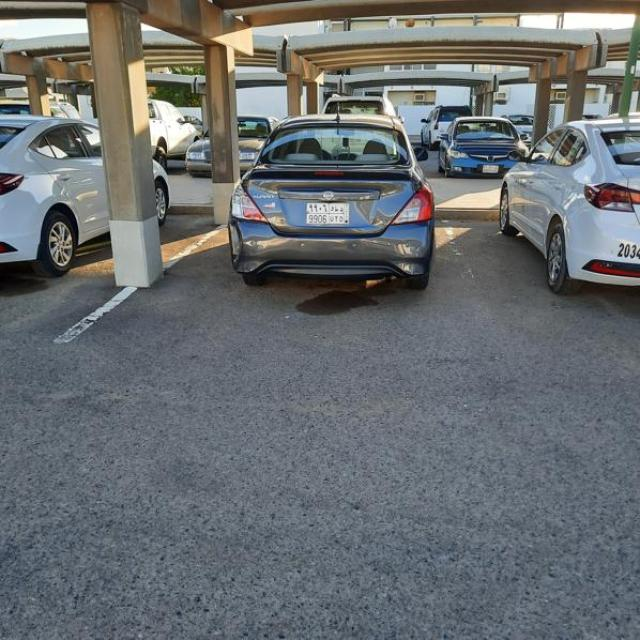license_plate: (306, 202, 351, 226), (483, 165, 499, 174)
